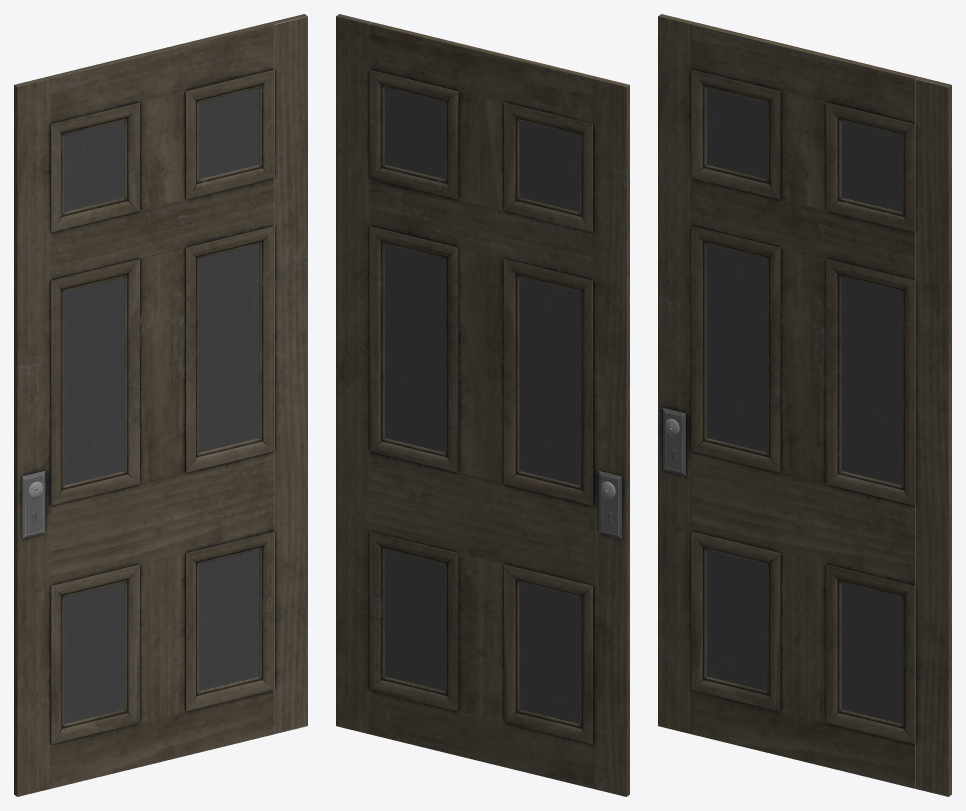
The model's file is SalvagedDoor-optimized.glb.
The picture shows the model from 3 angles, left to right: view 1: azimuth 30°, elevation 25°; view 2: azimuth 150°, elevation 25°; view 3: azimuth 330°, elevation 25°; orthographic projection.
Visible parts, largest first — view 1: SalvagedDoor; view 2: SalvagedDoor; view 3: SalvagedDoor.
Part boxes in pixels (bbox=[...]): SalvagedDoor: bbox=[14, 14, 307, 796]; SalvagedDoor: bbox=[336, 14, 629, 796]; SalvagedDoor: bbox=[658, 14, 951, 796].
Bounding box in the file's own units: 0.9 × 2.1 × 0.05.
1 material, 1 textured.
